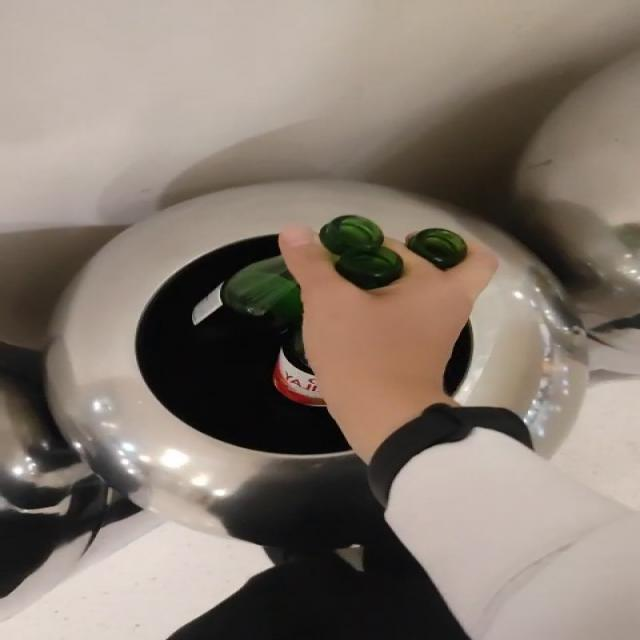glass: (191, 256, 325, 407), (319, 215, 403, 289), (407, 228, 468, 269)
